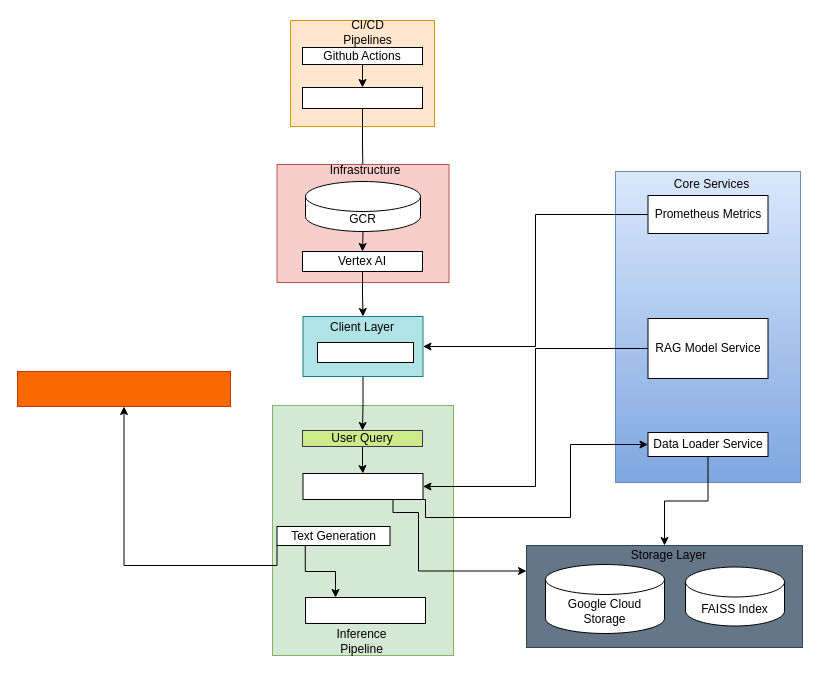
This 820x673 diagram has some shape labels left out. The box of each missing label's shape, as (x1, y1, x2, y2) in pixels:
Context Retrieval: (302, 472, 423, 500)
FastAPI Endpoints: (316, 342, 414, 362)
Final Response: (304, 596, 426, 624)
google/flan-t5-base Model: (16, 370, 230, 406)
Service Account Auth: (302, 86, 422, 108)
